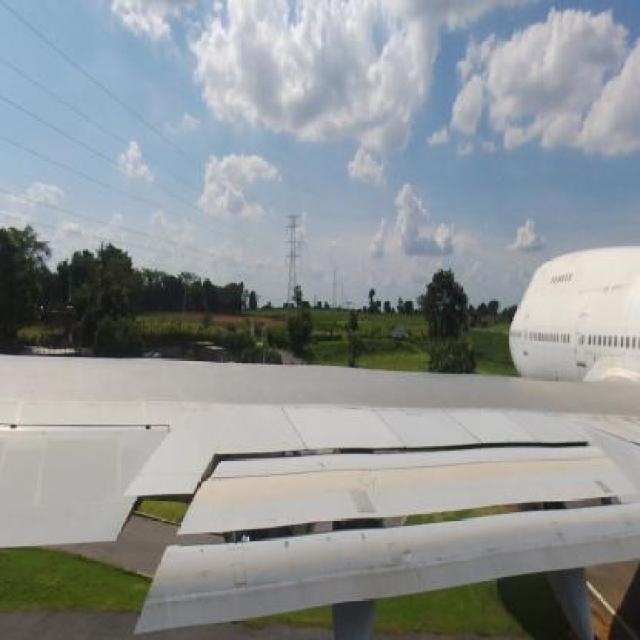Rust: (598, 276, 628, 299)
Scartch: (612, 407, 640, 433)
